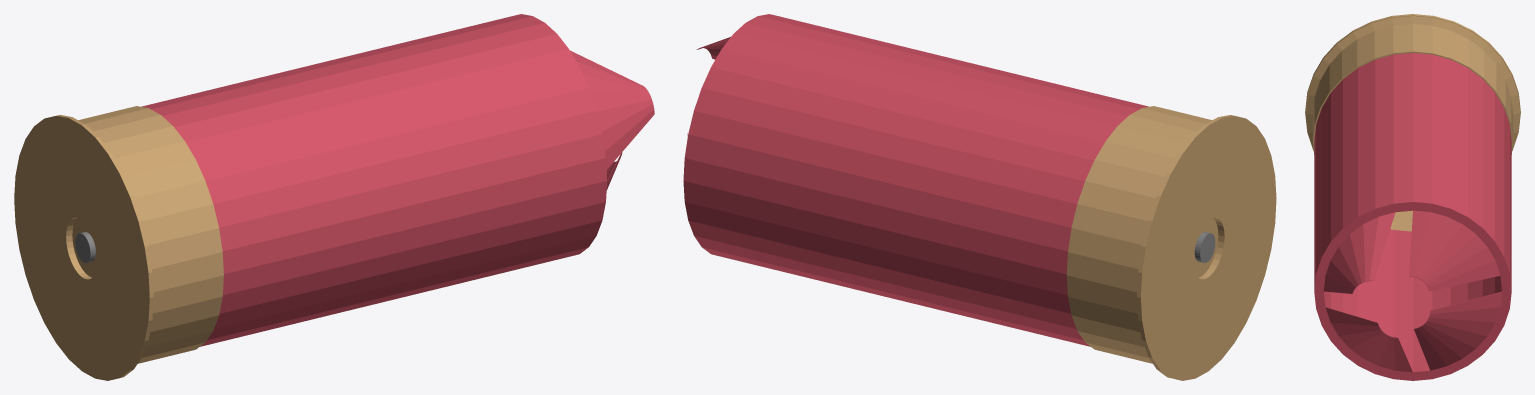
The model's file is ShotgunShell.fbx.
3 renders of one model, left to right at view 1: azimuth 30°, elevation 25°; view 2: azimuth 150°, elevation 25°; view 3: azimuth 270°, elevation 25°, orthographic. The views are drawn at different scales.
Visible parts, largest first — view 1: Cylinder; view 2: Cylinder; view 3: Cylinder.
Part boxes in pixels (x1=…): Cylinder: x1=14, y1=14, x2=654, y2=380; Cylinder: x1=683, y1=14, x2=1276, y2=380; Cylinder: x1=1305, y1=14, x2=1520, y2=380.
Bounding box in the file's own units: 8.26 × 3.61 × 3.61.
